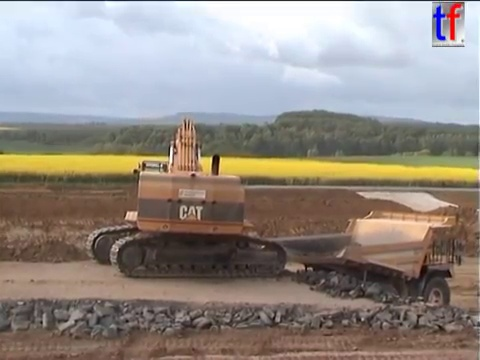excavator: (82, 113, 288, 281)
truck: (259, 208, 464, 323)
